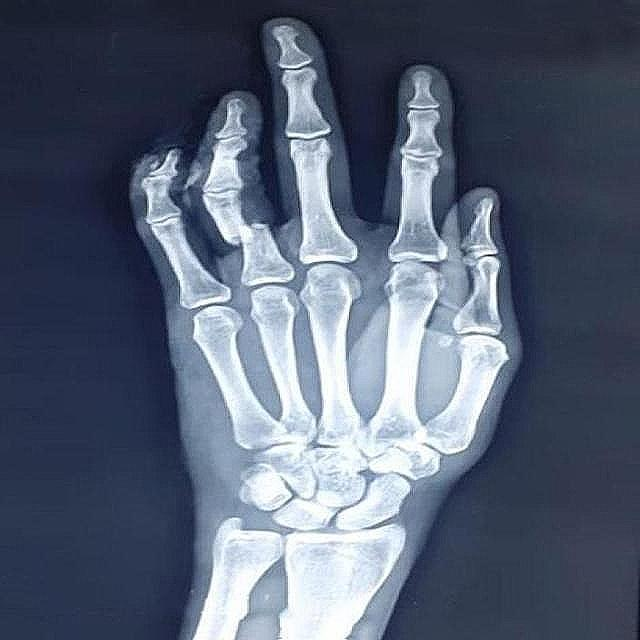bone: (212, 216, 286, 254)
